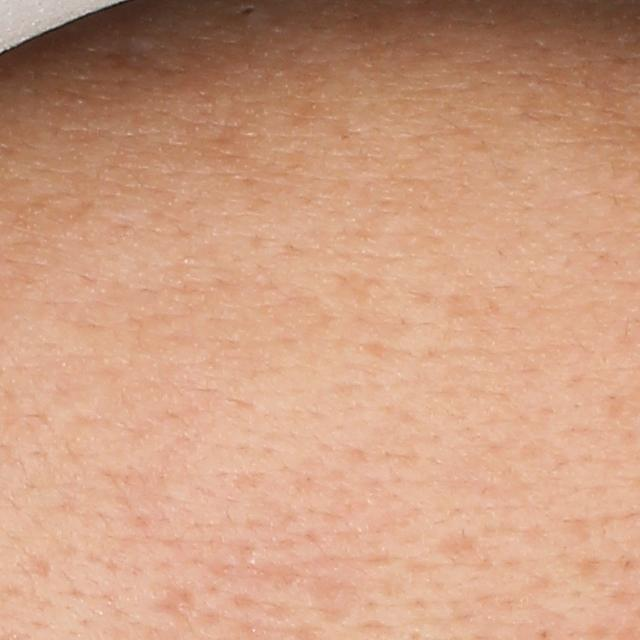atrophic_scar: (303, 553, 376, 627), (151, 580, 196, 616), (436, 526, 469, 562)
